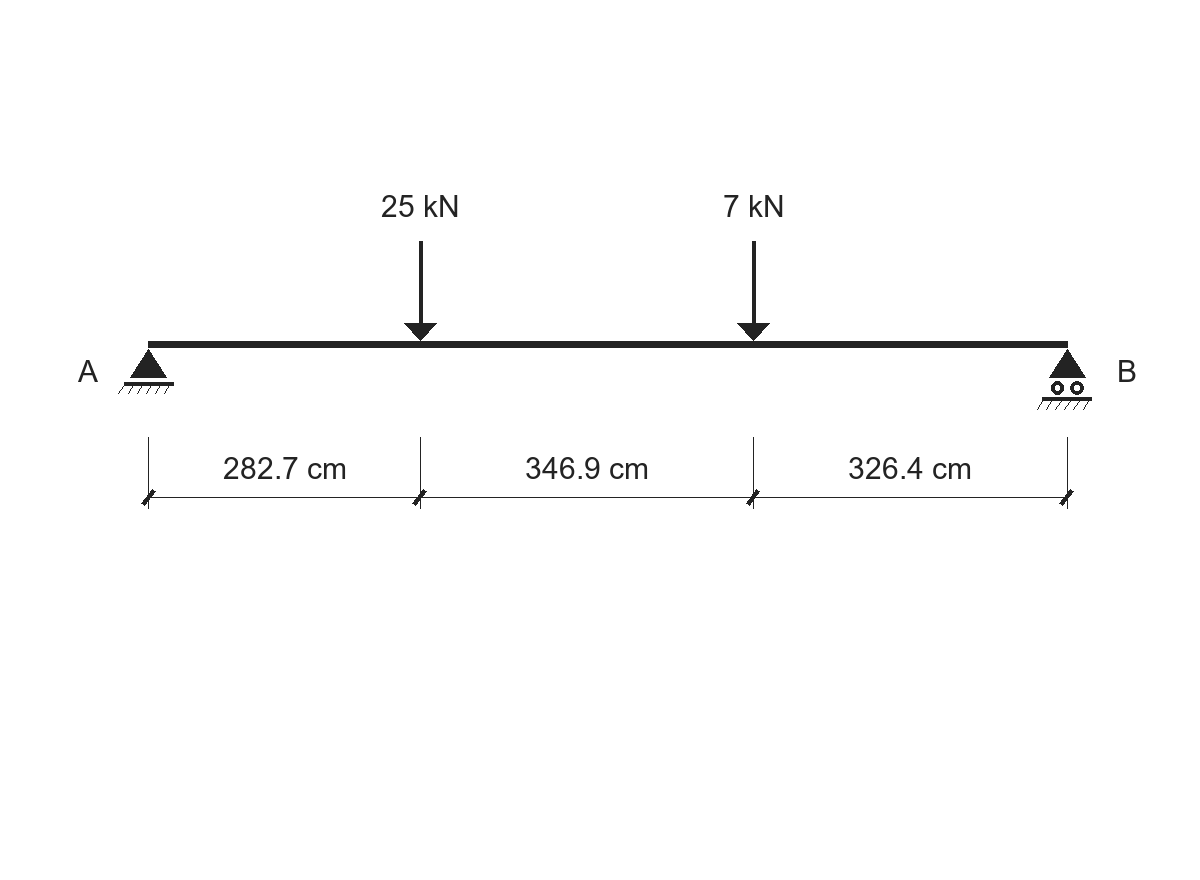pin_support: (118, 349, 174, 394)
point_load: (404, 241, 437, 341), (737, 241, 770, 341)
roller_support: (1037, 349, 1092, 410)
